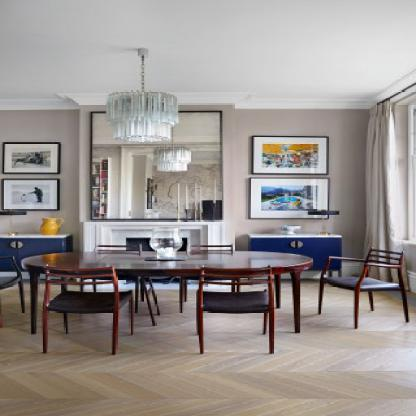chair: (38, 258, 139, 364), (192, 263, 284, 359), (317, 245, 416, 330), (91, 237, 161, 324), (178, 244, 244, 320)
light: (104, 39, 182, 149), (153, 145, 196, 181)
table: (24, 250, 310, 334), (244, 232, 347, 277), (0, 234, 68, 271)
